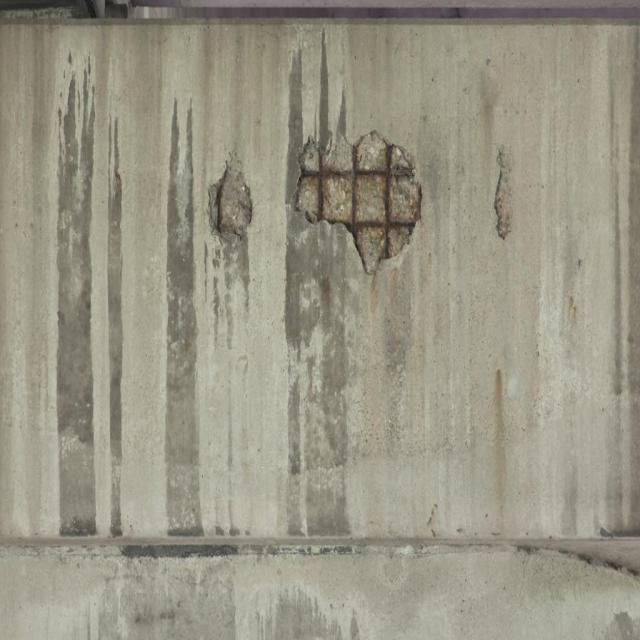Rebar: (291, 127, 425, 276)
concrete spalling: (207, 149, 253, 245), (493, 143, 515, 241)
